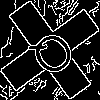Q: (25, 25, 85, 88)
